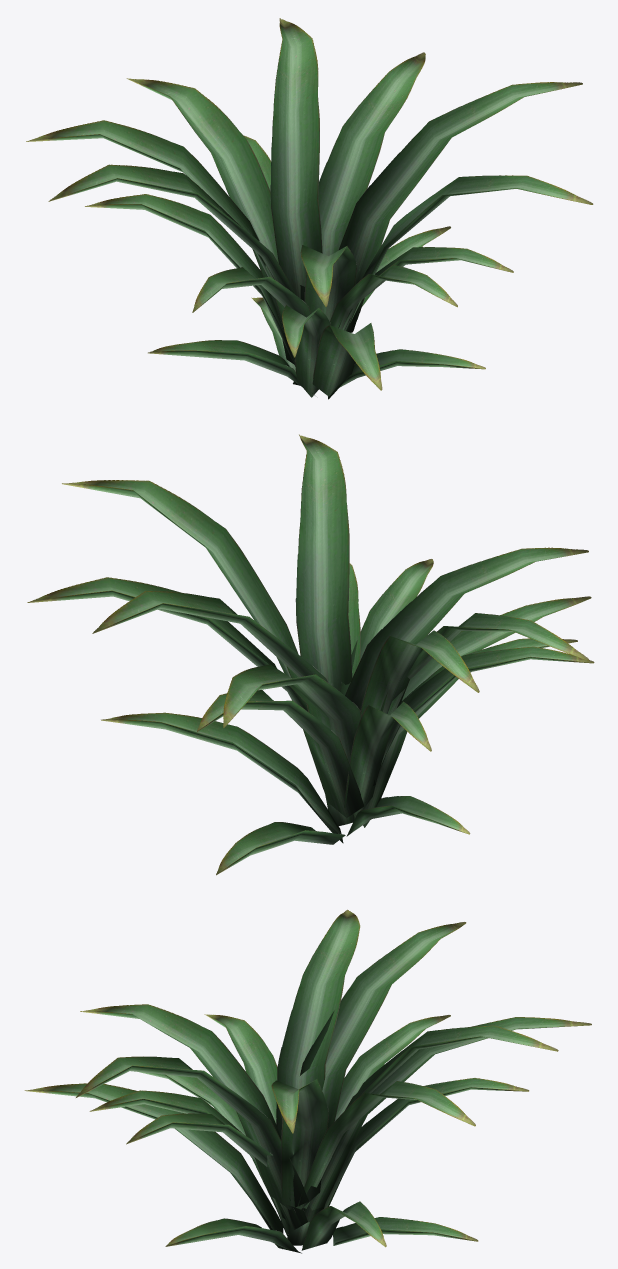
Rendered from Yucca03.FBX.
3 renders of one model, top to bottom at view 1: azimuth 30°, elevation 25°; view 2: azimuth 150°, elevation 25°; view 3: azimuth 270°, elevation 25°, orthographic. The views are drawn at different scales.
Parts seen in each view (by area): view 1: Yucca02; view 2: Yucca02; view 3: Yucca02.
Boxes of the visible parts, x1,y1,x2,y2 form: Yucca02: (26, 18, 593, 399); Yucca02: (27, 434, 594, 875); Yucca02: (24, 909, 591, 1253).
Bounding box in the file's own units: 166 × 82.06 × 166.
